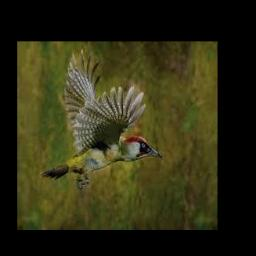Woodpecker: (40, 49, 163, 189)
